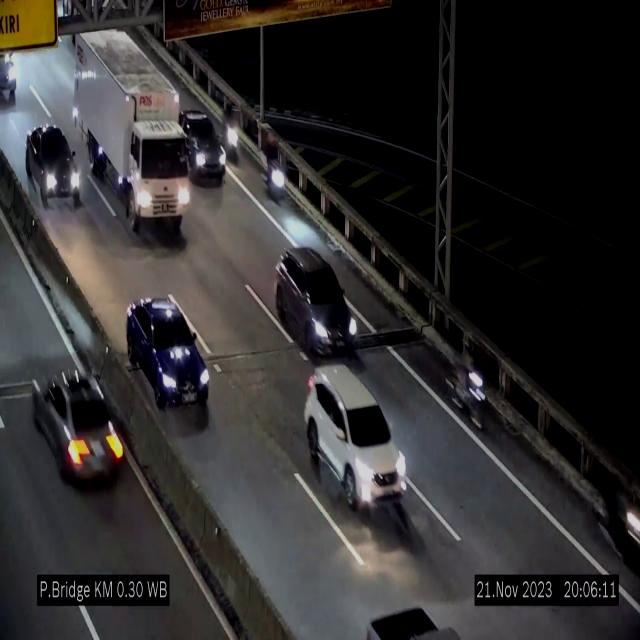Car: (305, 364, 406, 509), (27, 358, 126, 494), (127, 296, 209, 418), (276, 249, 356, 355), (24, 118, 84, 202), (174, 109, 229, 192), (0, 52, 25, 106)
Motorcycle: (455, 342, 492, 435), (262, 127, 288, 204), (219, 96, 239, 169)
Truck: (74, 30, 190, 238)
